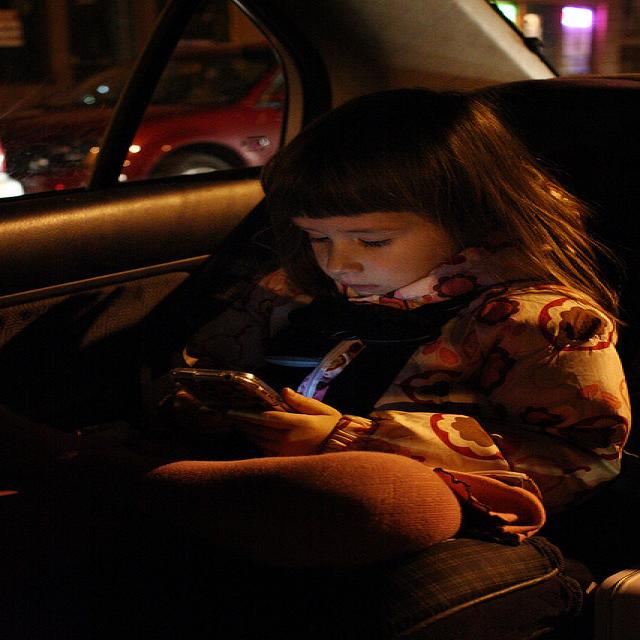Vehicle: (0, 41, 277, 198), (58, 50, 282, 188)
